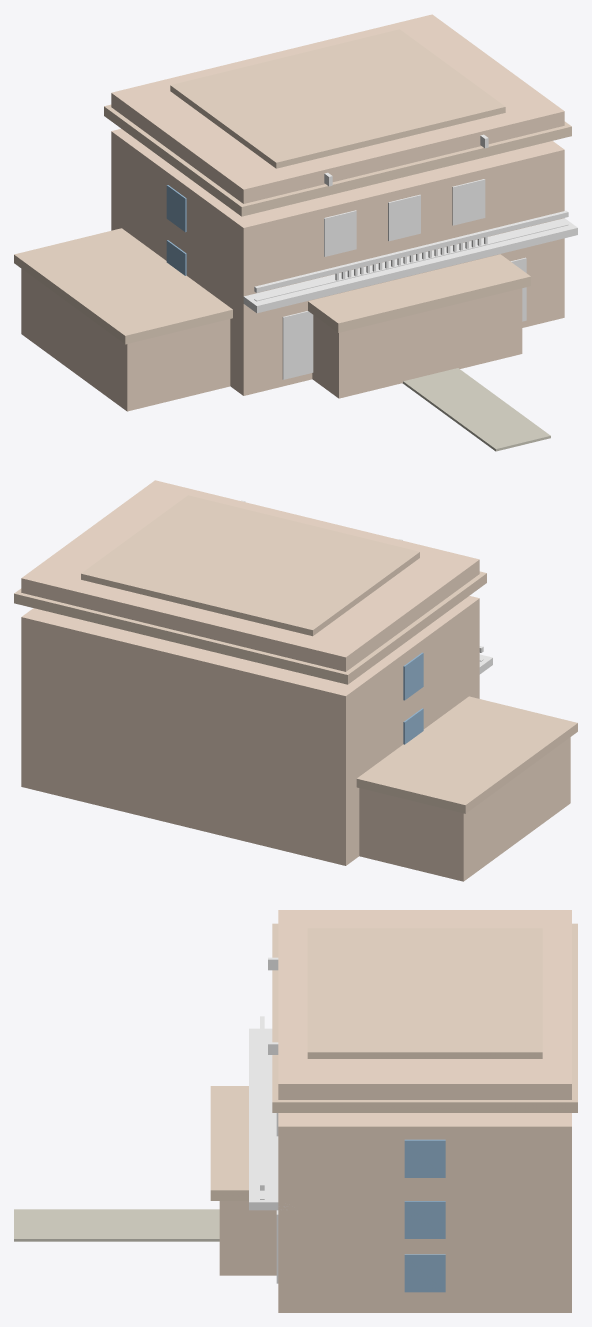
Rendered from Conference_Hall.glb.
3 views of the same model, one above another, from view 1: azimuth 30°, elevation 25°; view 2: azimuth 150°, elevation 25°; view 3: azimuth 270°, elevation 25° (orthographic). The views are drawn at different scales.
Parts seen in each view (by area): view 1: FirstFloor, TopSlab, TerraceParapet, LeftWing, Porch, LeftRoof, GroundFloor, PorchSlab, RoofSlab, BalconySlab, Path, RailTop (+7 smaller); view 2: FirstFloor, GroundFloor, TopSlab, TerraceParapet, LeftWing, LeftRoof, RoofSlab, SideWin_L_58; view 3: TopSlab, GroundFloor, FirstFloor, TerraceParapet, Path, RoofSlab, PorchSlab, BalconySlab, Porch, SideWin_R_15, SideWin_R_58, SideWin_R_35 (+1 smaller).
Boxes of the visible parts, x1,y1,x2,y2 form: FirstFloor: (111,128,564,299); TopSlab: (170,29,505,168); TerraceParapet: (111,14,564,203); LeftWing: (21,269,230,411); Porch: (312,288,522,398); LeftRoof: (14,228,232,344); GroundFloor: (111,203,564,395); PorchSlab: (308,254,530,332); RoofSlab: (104,104,571,216); BalconySlab: (243,218,577,313); Path: (402,368,550,451); RailTop: (254,210,568,292); FirstFloor: (21,596,479,768); GroundFloor: (21,671,479,865); TopSlab: (81,495,419,636); TerraceParapet: (21,480,479,671); LeftWing: (359,737,570,881); LeftRoof: (356,696,577,813); RoofSlab: (14,571,486,684); SideWin_L_58: (403,652,423,700); TopSlab: (307,928,542,1058); GroundFloor: (278,1206,571,1312); FirstFloor: (278,1113,571,1206); TerraceParapet: (278,910,571,1099); Path: (14,1209,219,1241); RoofSlab: (272,923,577,1112); PorchSlab: (210,1086,248,1200); BalconySlab: (249,1028,289,1210); Porch: (219,1201,276,1275); SideWin_R_15: (404,1254,445,1292); SideWin_R_58: (404,1139,445,1177); SideWin_R_35: (404,1201,445,1238).
Bounding box in the file's own units: 18.9 × 9.85 × 19.2.
